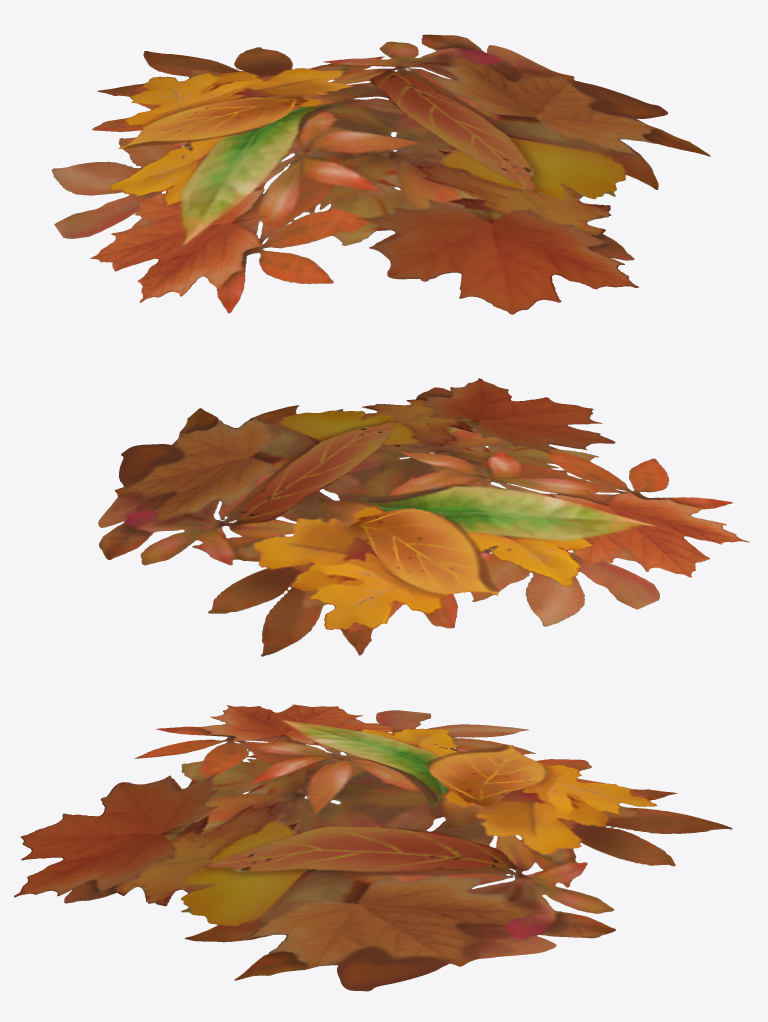
The model's file is CBS_FallenLeaves_04.FBX.
3 renders of one model, top to bottom at view 1: azimuth 30°, elevation 25°; view 2: azimuth 150°, elevation 25°; view 3: azimuth 270°, elevation 25°, orthographic. The views are drawn at different scales.
Visible parts, largest first — view 1: CBS_FallenLeaves_04; view 2: CBS_FallenLeaves_04; view 3: CBS_FallenLeaves_04.
Boxes of the visible parts, x1=… form: CBS_FallenLeaves_04: x1=51, y1=34, x2=710, y2=314; CBS_FallenLeaves_04: x1=98, y1=378, x2=749, y2=656; CBS_FallenLeaves_04: x1=14, y1=704, x2=732, y2=991.
Bounding box in the file's own units: 65.72 × 6.43 × 66.28.
